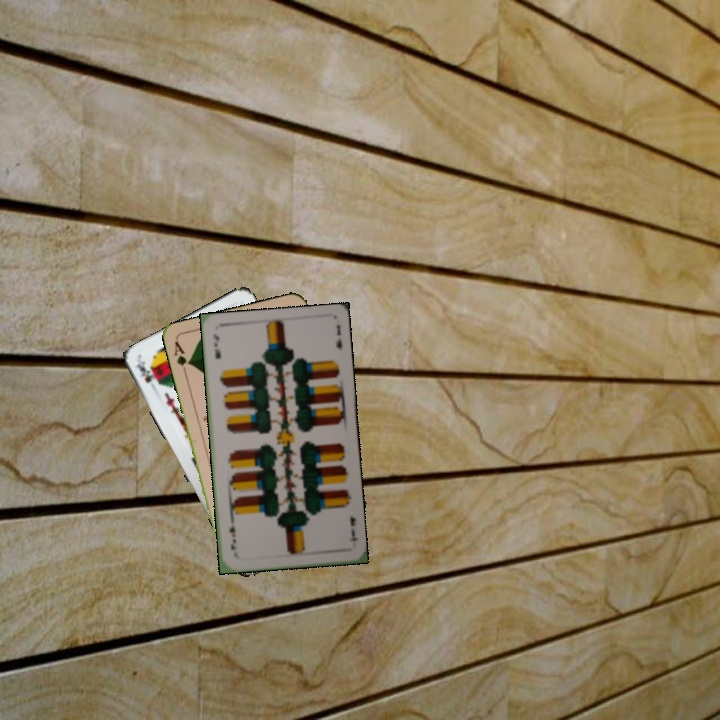E7: (346, 511, 360, 544), (209, 330, 223, 361)
GA: (170, 337, 193, 377)
SK: (131, 357, 155, 385)
